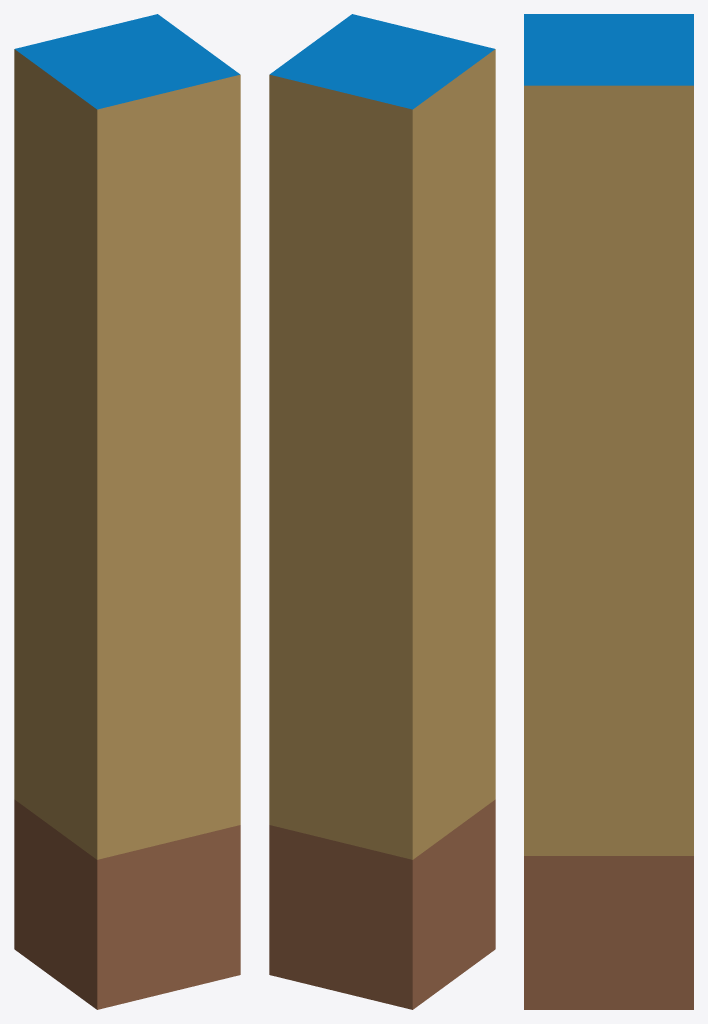
File: Wall.fbx
3 renders of one model, left to right at view 1: azimuth 30°, elevation 25°; view 2: azimuth 150°, elevation 25°; view 3: azimuth 270°, elevation 25°, orthographic. The views are drawn at different scales.
Parts seen in each view (by area): view 1: UpperWall, LowerWall; view 2: UpperWall, LowerWall; view 3: UpperWall, LowerWall.
Part boxes in pixels (left/top/right/bottom): UpperWall: left=14, top=14, right=240, bottom=859; LowerWall: left=14, top=799, right=240, bottom=1009; UpperWall: left=269, top=14, right=495, bottom=859; LowerWall: left=269, top=799, right=495, bottom=1009; UpperWall: left=524, top=14, right=693, bottom=855; LowerWall: left=524, top=856, right=693, bottom=1009.
Size of the model in its own units: 50 by 300 by 50.
